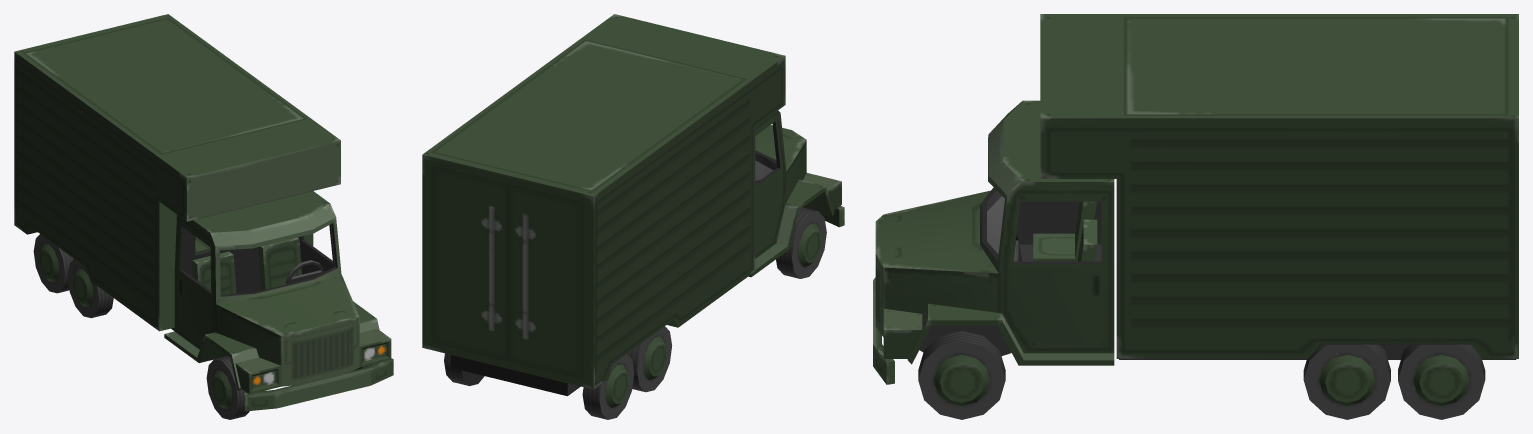
File: Truck_002.FBX
3 views of the same model, side by side, from view 1: azimuth 30°, elevation 25°; view 2: azimuth 150°, elevation 25°; view 3: azimuth 270°, elevation 25° (orthographic). The views are drawn at different scales.
Visible parts, largest first — view 1: Truck_002_B, Truck_002_A, Truck_002_Right_Wheel, Truck_Rear_Wheel_01, Truck_Rear_Wheel_02; view 2: Truck_002_B, Truck_002_A, Truck_Rear_Wheel_02, Truck_002_Right_Wheel, Truck_Rear_Wheel_01; view 3: Truck_002_B, Truck_002_A, Truck_002_Left_Wheel, Truck_Rear_Wheel_02, Truck_Rear_Wheel_01.
Part boxes in pixels (x1,y1,x2,y2): Truck_002_B: (14, 14, 340, 331); Truck_002_A: (164, 191, 393, 411); Truck_002_Right_Wheel: (206, 355, 249, 419); Truck_Rear_Wheel_01: (67, 259, 113, 318); Truck_Rear_Wheel_02: (33, 234, 73, 293); Truck_002_B: (422, 14, 785, 389); Truck_002_A: (450, 110, 844, 396); Truck_Rear_Wheel_02: (444, 353, 634, 419); Truck_002_Right_Wheel: (776, 207, 826, 278); Truck_Rear_Wheel_01: (627, 326, 672, 392); Truck_002_B: (1040, 14, 1518, 358); Truck_002_A: (873, 100, 1516, 384); Truck_002_Left_Wheel: (918, 330, 1005, 419); Truck_Rear_Wheel_02: (1398, 344, 1485, 419); Truck_Rear_Wheel_01: (1303, 344, 1390, 419).
Bounding box in the file's own units: 254 × 665 × 349.
